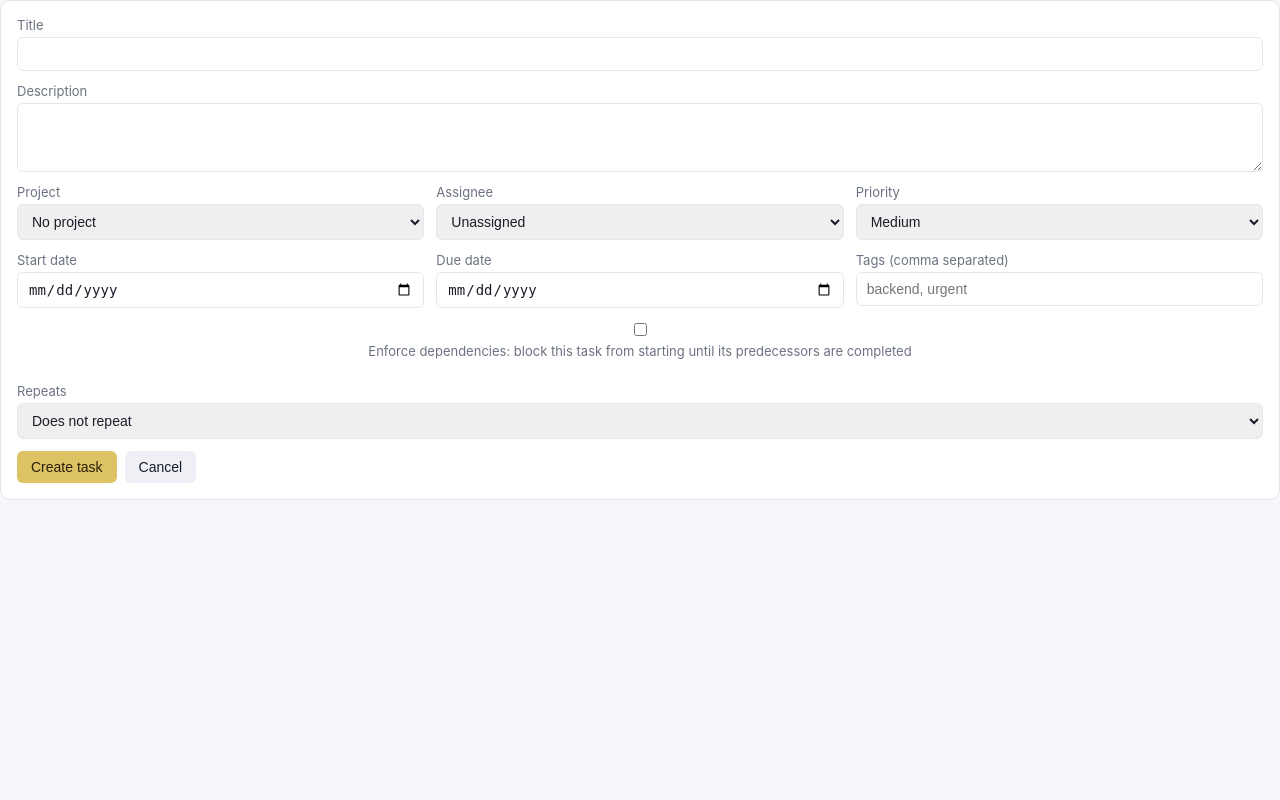
it: TaskForm › toggling recurrence shows the interval/end-date fields
Expected: the field labelled "stop repeating" is not shown
Step 1. Select "Weekly" in the dropdown showing "Does not repeat" → point(640, 421), box [17,403,1263,439]
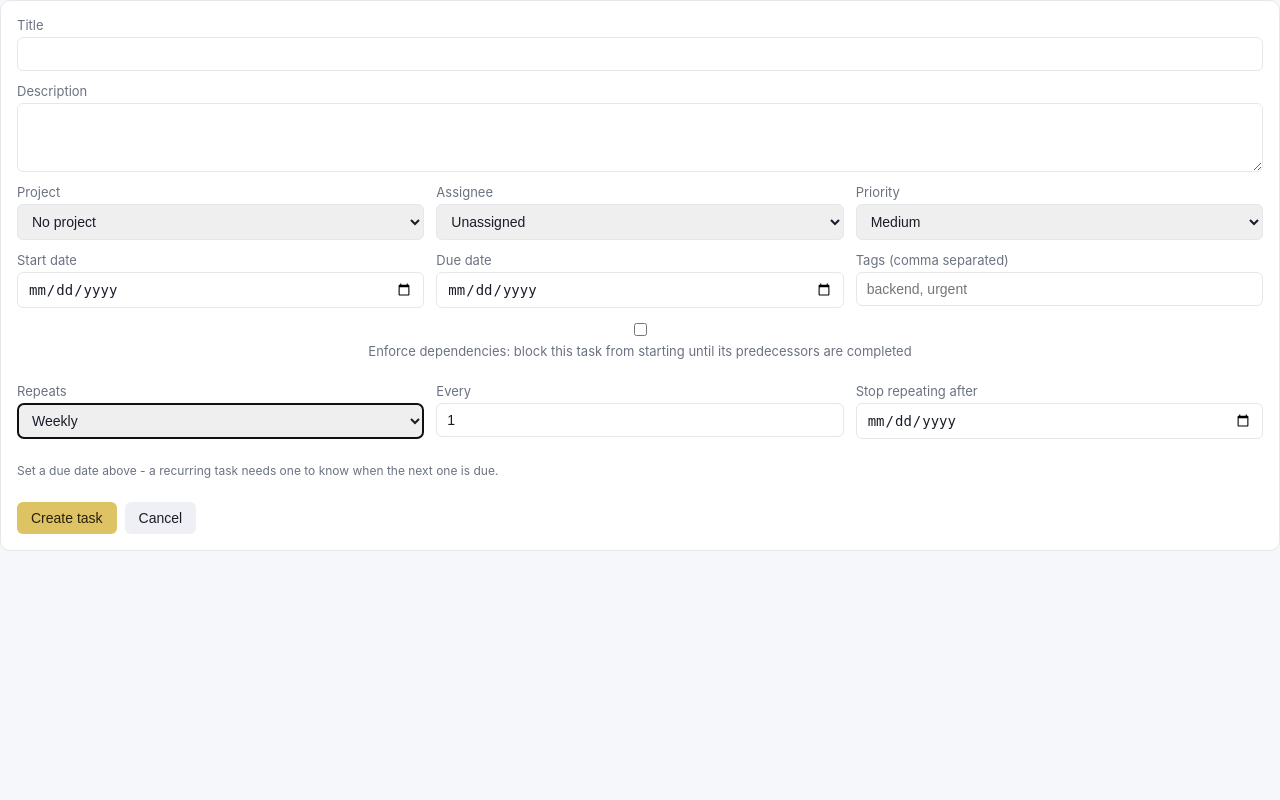
Expected: the date field labelled "Stop repeating after" is shown, [856,403,1263,439]
